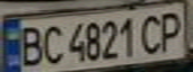1: (115, 14, 139, 58)
2: (100, 16, 121, 62)
4: (63, 19, 87, 63)
8: (81, 18, 103, 63)
B: (15, 22, 45, 69)
C: (136, 10, 166, 55), (39, 21, 66, 68)
P: (154, 7, 187, 53)
